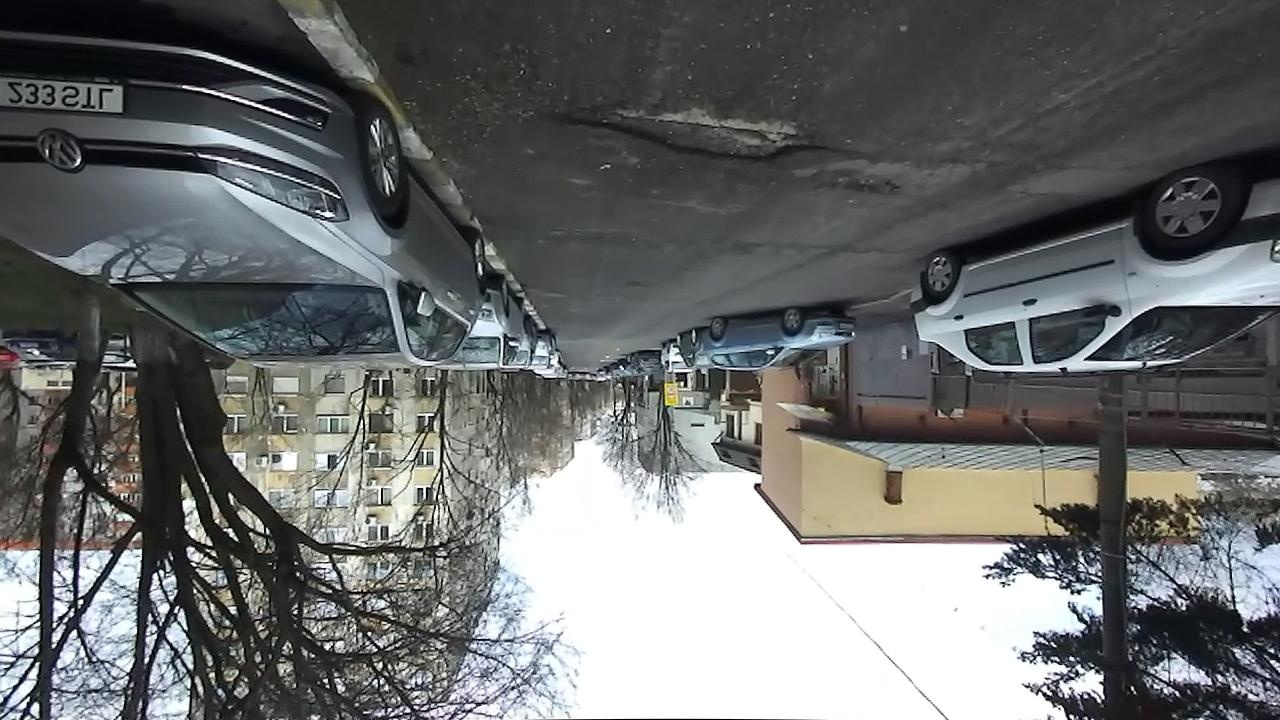pothole: (548, 89, 827, 166), (803, 168, 904, 200)
